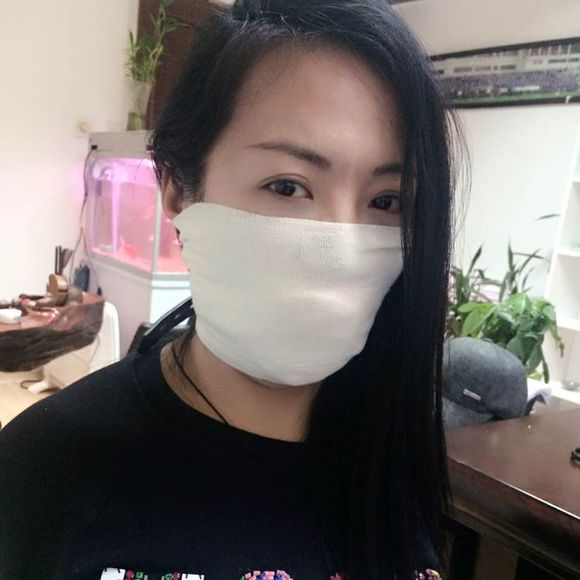face_mask: (192, 55, 412, 369)
